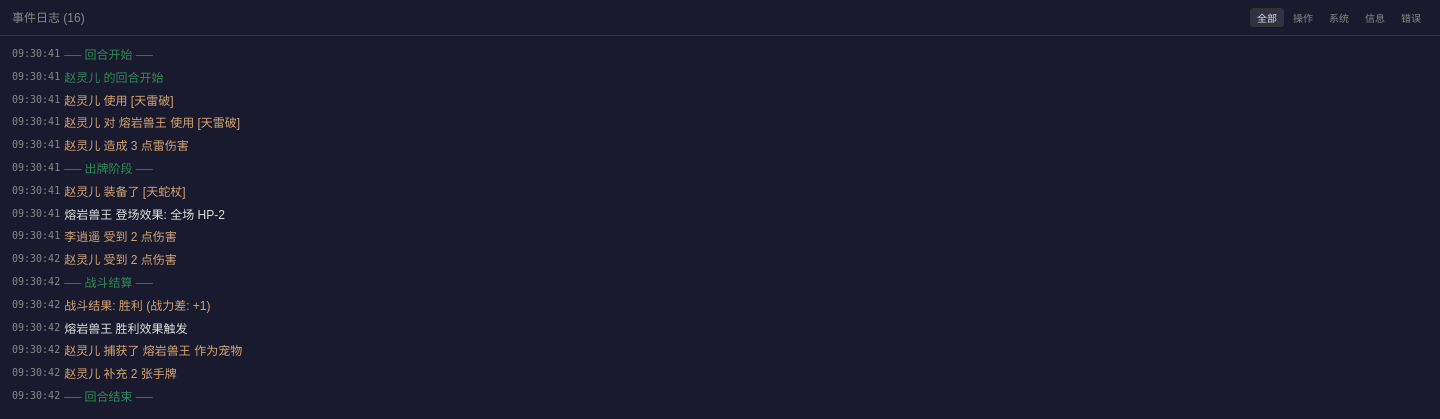
it: EventLog › filtering › should show entry count
The width and height of the screenshot is (1440, 419).
Expected: the text "事件日志 (16)" is shown, [12,8,85,26]
Note: After filtering to action only
Click the button "操作" at (1303, 18), box [1286,8,1320,27]
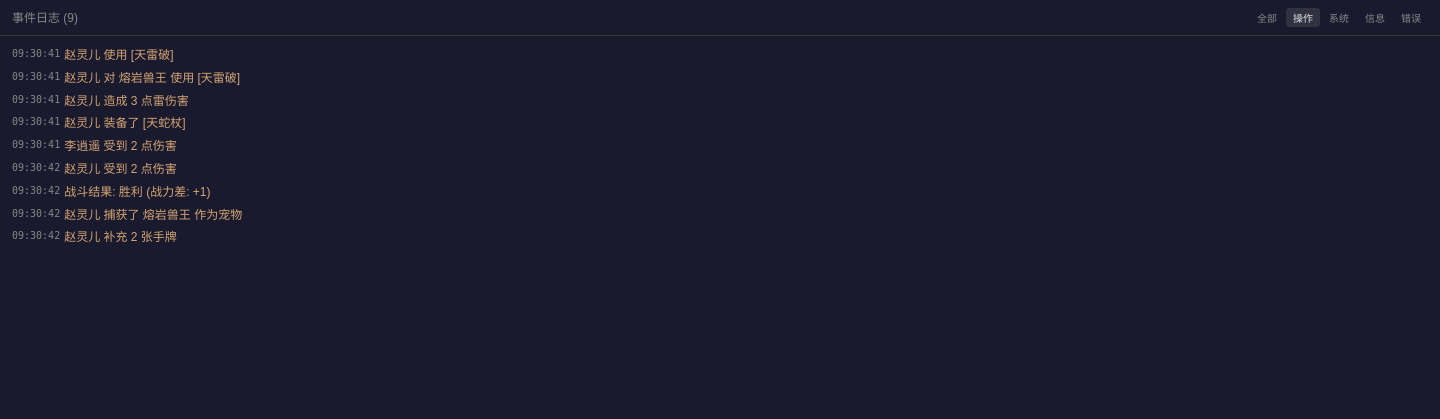
Now the text "事件日志 (9)" is shown, box [12,8,78,26]
